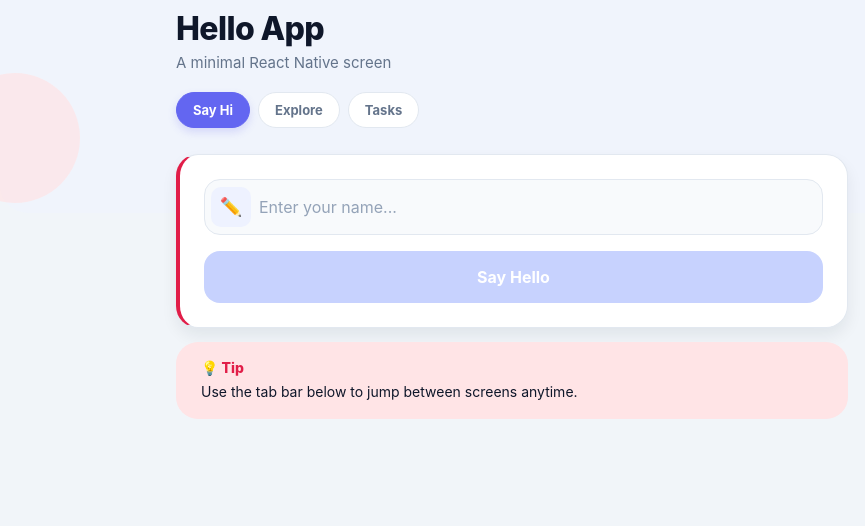
Scenario: HomeScreen › greets when Enter key is pressed
Type "Bob" into the field with placeholder "Enter your name..." at (538, 207), box [259,180,816,234]
Then press Enter
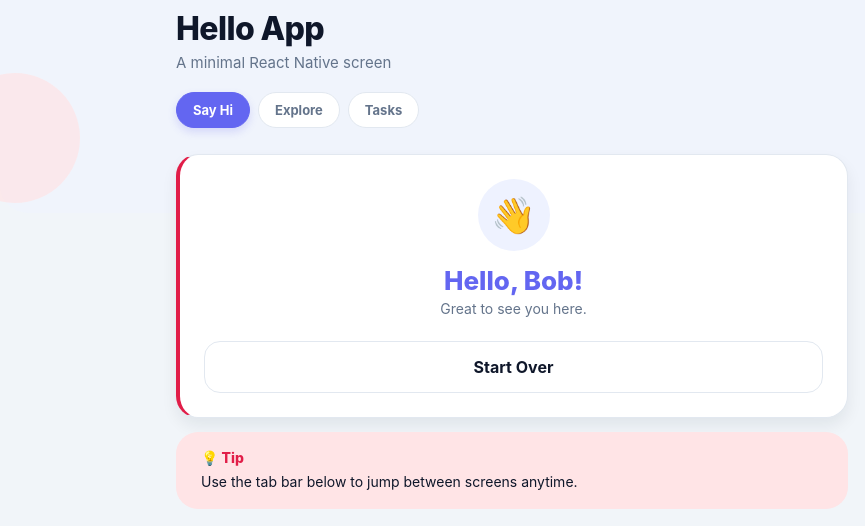
Expected: the text "Hello, Bob!" is shown, [444,265,583,296]
